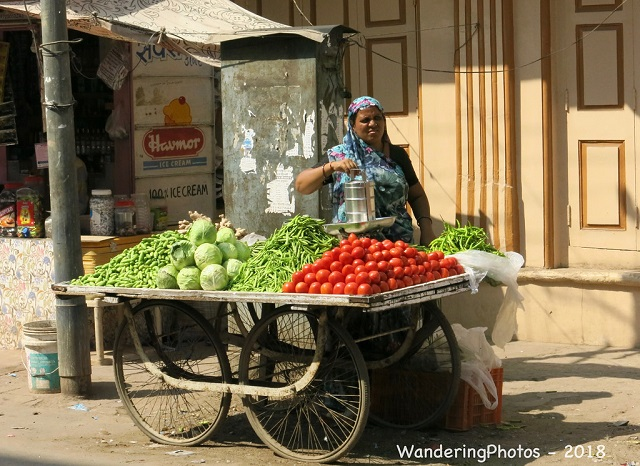cart: (53, 213, 498, 463)
person: (296, 96, 437, 244)
pole: (39, 1, 91, 398)
